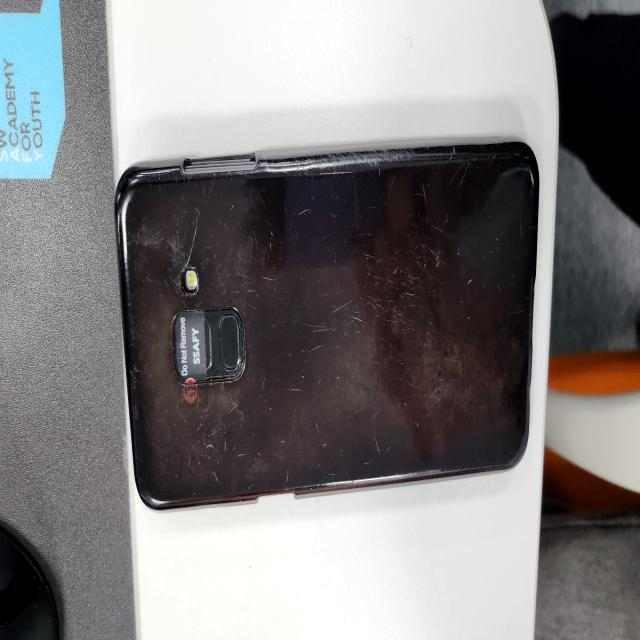phone: (115, 146, 540, 510)
sticker: (170, 299, 209, 401)
